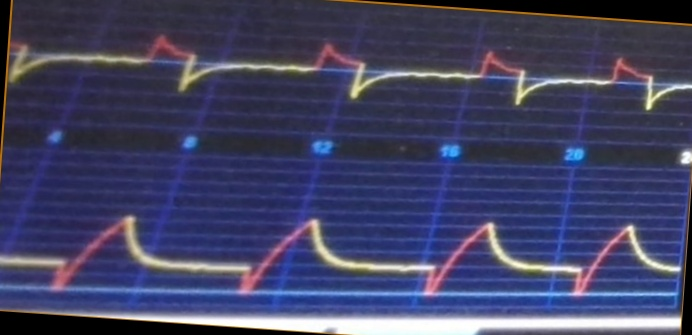Flow: (11, 32, 692, 122)
Leakage Volume: (2, 197, 681, 306)
